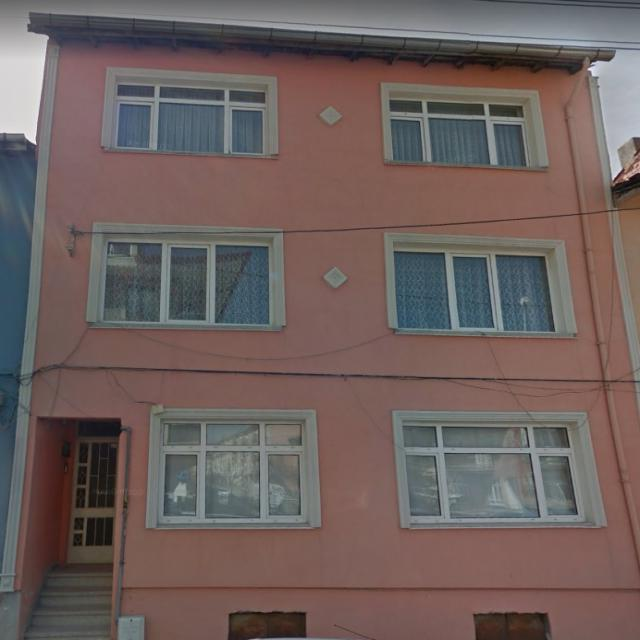Building: (1, 14, 640, 640)
